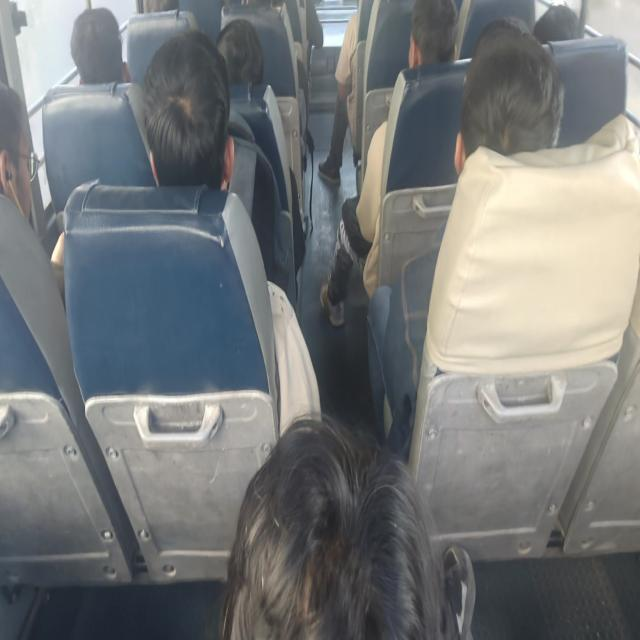person: (218, 425, 454, 640), (143, 43, 225, 225), (464, 36, 560, 166), (0, 76, 51, 226), (60, 5, 137, 94), (206, 18, 281, 94), (402, 2, 458, 79), (533, 7, 589, 55)
